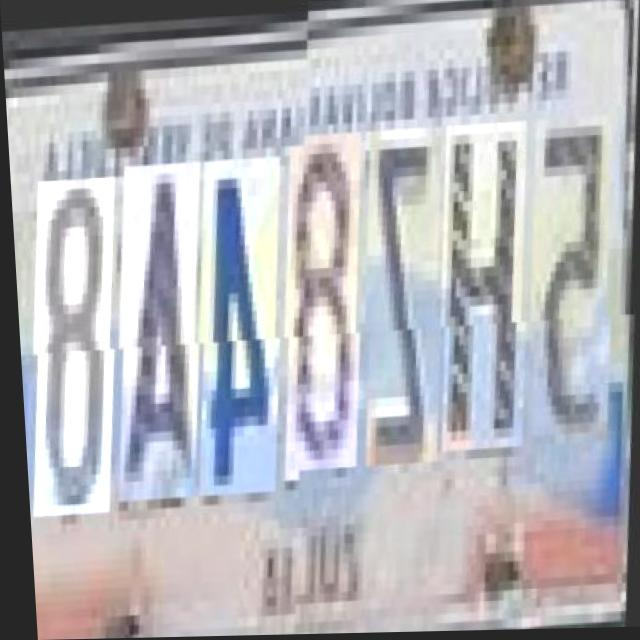4: (181, 154, 296, 494)
5: (514, 127, 628, 457)
8: (15, 173, 131, 512), (266, 140, 377, 479)
a: (101, 158, 216, 498)
h: (424, 131, 544, 461)
z: (348, 136, 458, 475)
